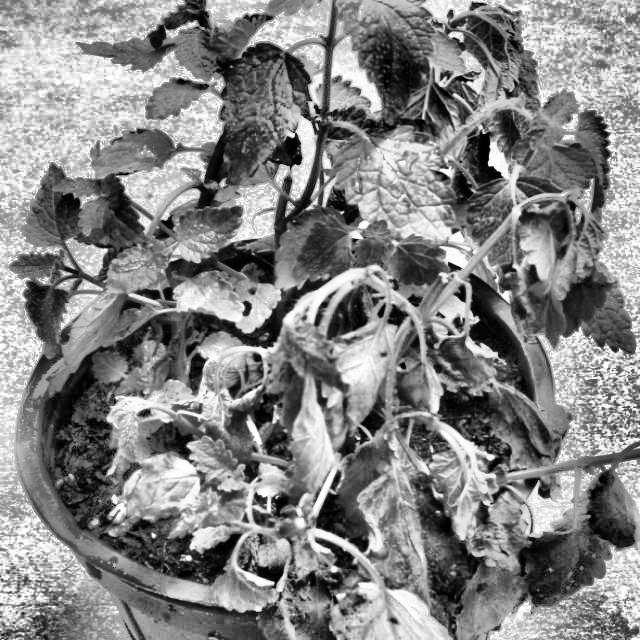plants: (29, 0, 639, 639), (256, 284, 356, 486), (322, 522, 476, 639), (461, 362, 579, 502), (104, 450, 215, 548)
